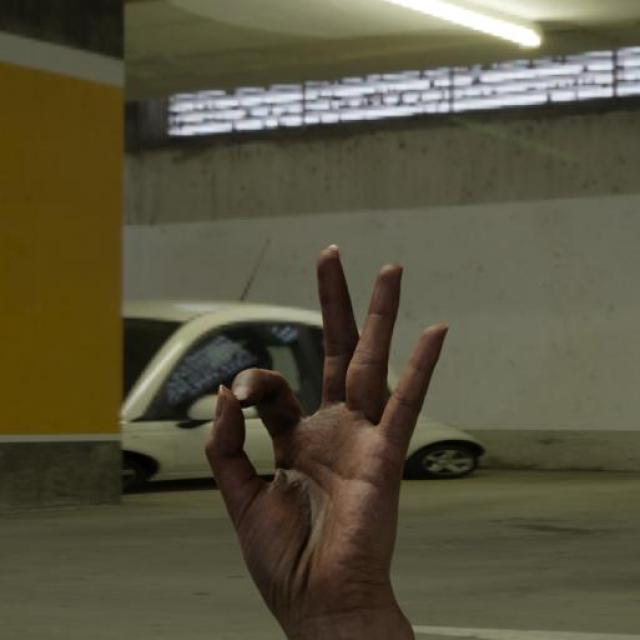F: (198, 239, 454, 611)
